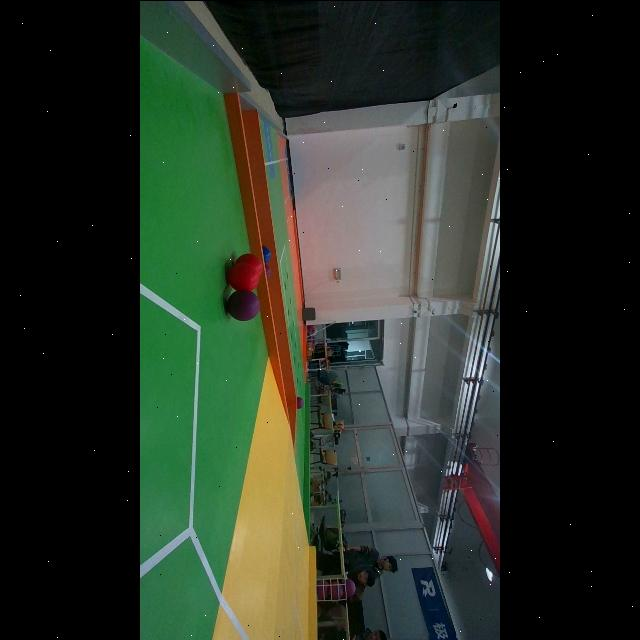P: (227, 290, 260, 320)
R: (228, 262, 260, 290), (235, 254, 265, 282)
S: (312, 573, 346, 601)
